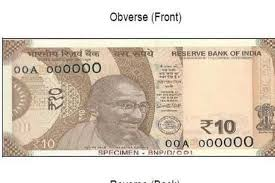ten: (10, 60, 259, 137)
